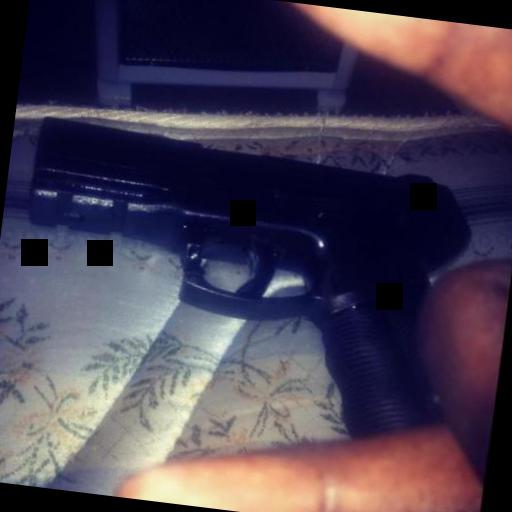Handgun: (2, 114, 486, 456)
